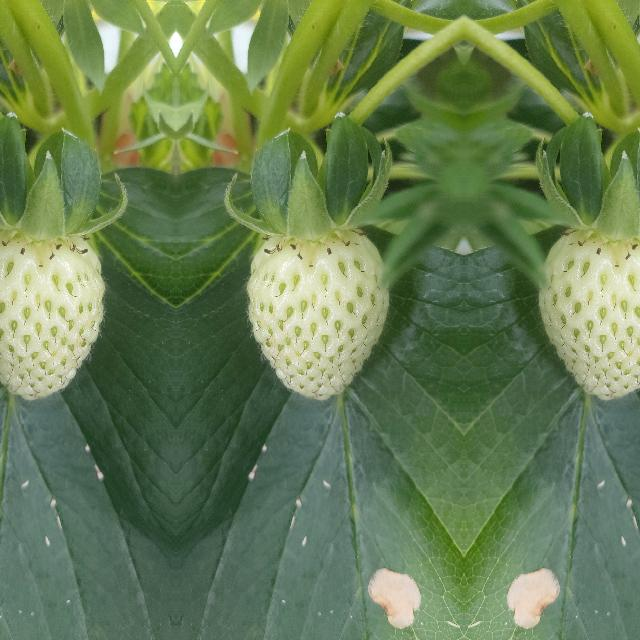Health_25: (246, 226, 388, 400), (0, 226, 104, 399), (538, 226, 640, 399)
